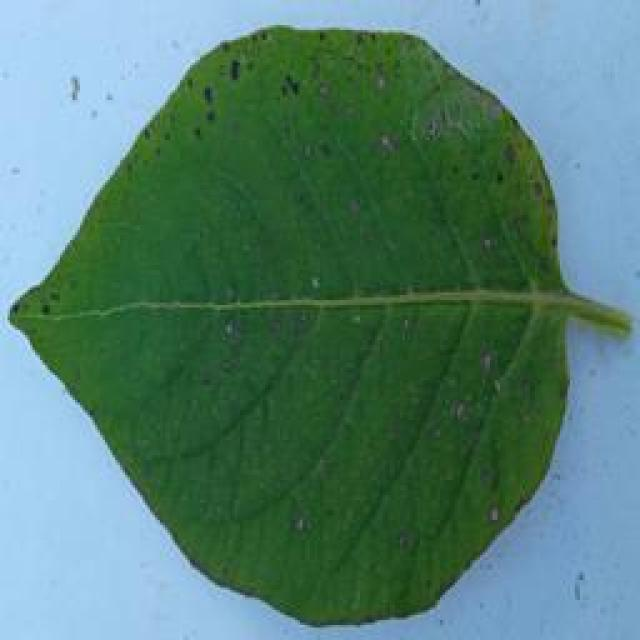Potato_Early_Blight: (10, 25, 597, 621)
